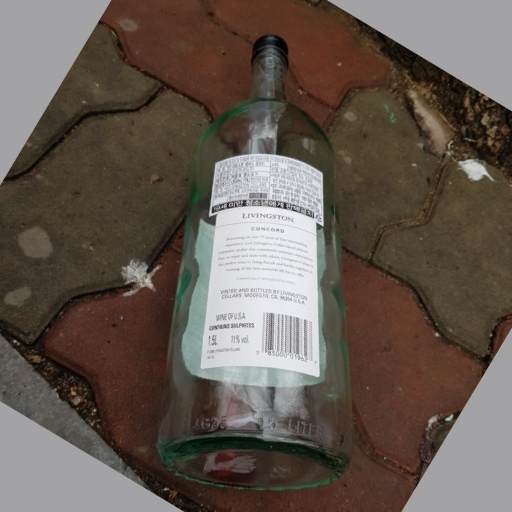Glass_2: (156, 29, 351, 492)
